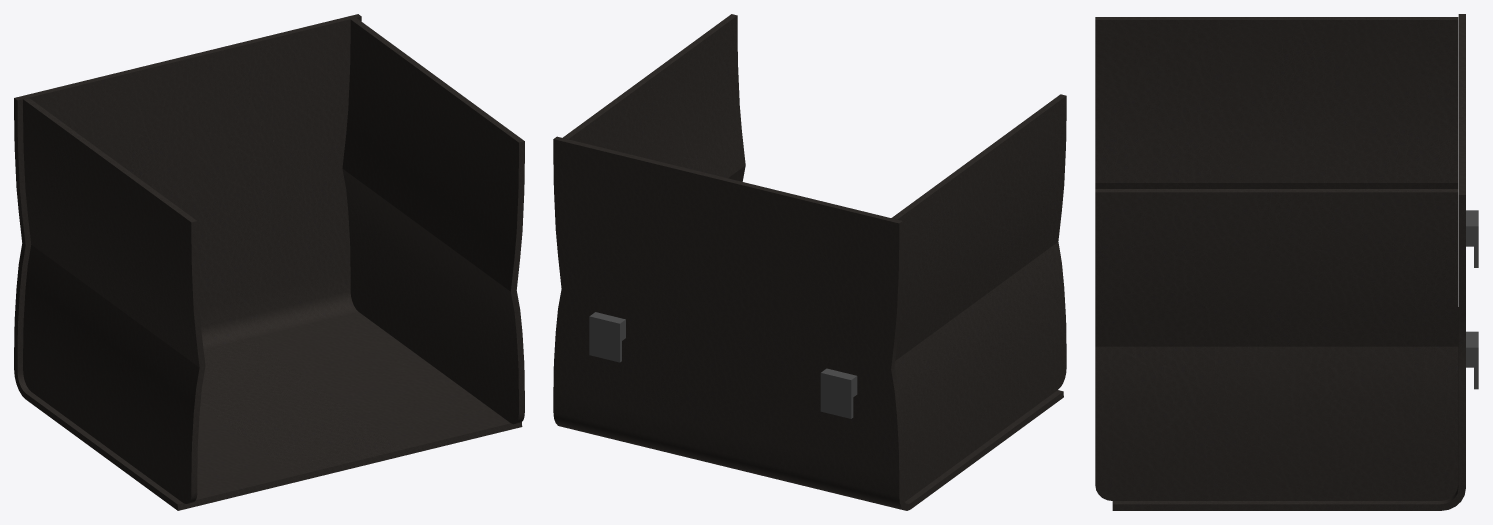
3 views of the same model, side by side, from view 1: azimuth 30°, elevation 25°; view 2: azimuth 150°, elevation 25°; view 3: azimuth 270°, elevation 25° (orthographic). The views are drawn at different scales.
Visible parts, largest first — view 1: box3; view 2: box3; view 3: box3.
Part boxes in pixels (box(x1,y1,x2,y2)): box3: box(14, 14, 524, 510); box3: box(553, 14, 1066, 510); box3: box(1095, 14, 1478, 510).
Bounding box in the file's own units: 0.2704 × 0.22 × 0.2421.
Materials: 2 (1 with a texture image).
